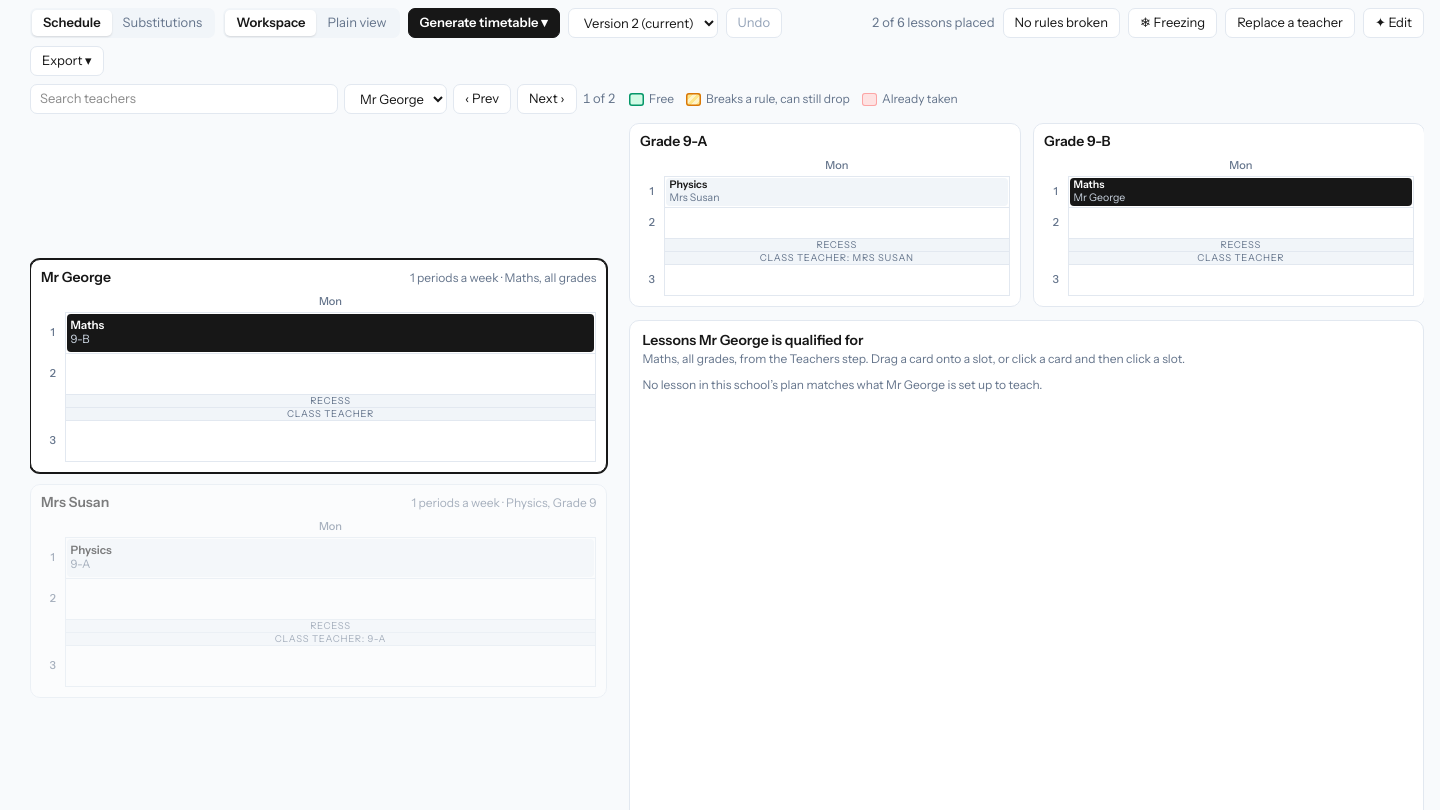
Test case: the workspace › shows one teacher at a time, alphabetically, with their lessons as cards
Expected: the dropdown named "Choose teacher" shows "Mr George", 344,84 -> 447,114
Click the button with aria-label "Next teacher": (547, 99) 517,84 -> 576,114
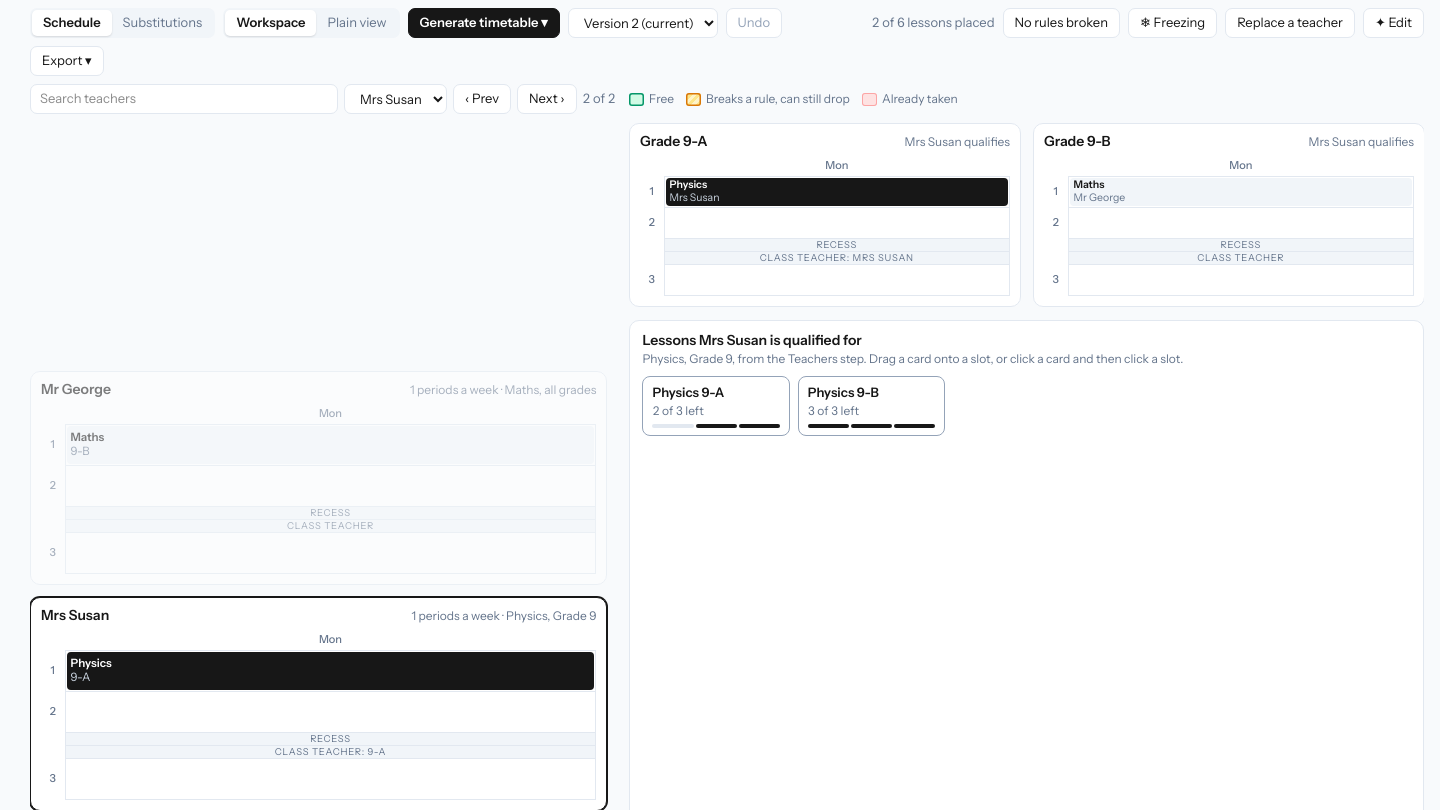
Result: the heading "Lessons Mrs Susan is qualified for" is shown at 642,331 -> 862,349
Result: the text "Physics 9-A" is shown at 652,384 -> 724,400
Result: the text "Physics, Grade 9, from the Teachers step." is shown at 642,351 -> 869,366
